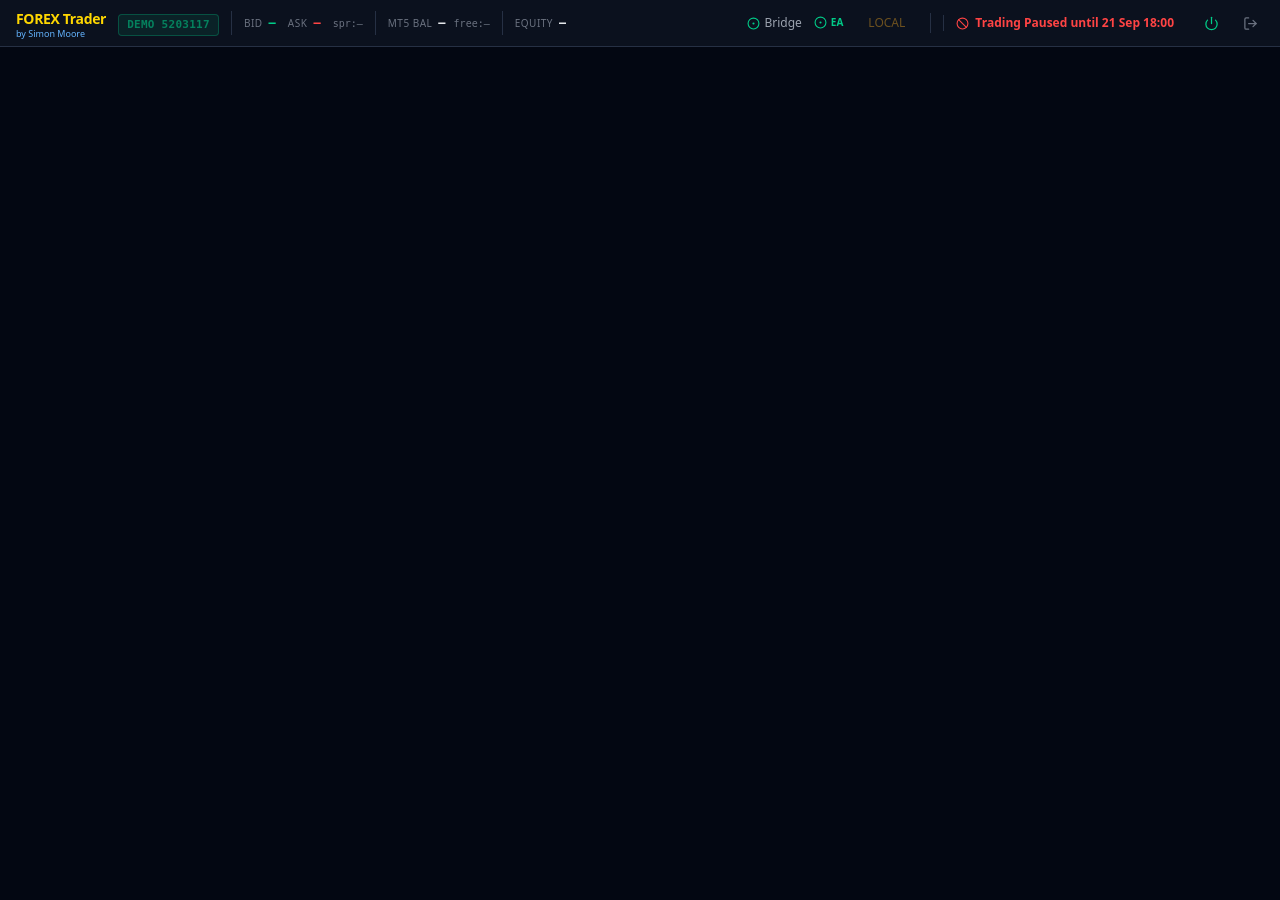
Test: the halt, stated once › is the control that lifts it, not just a label
Click the button with test id "trading-status-badge": [1065, 23] box x1=943 y1=15 x2=1186 y2=31
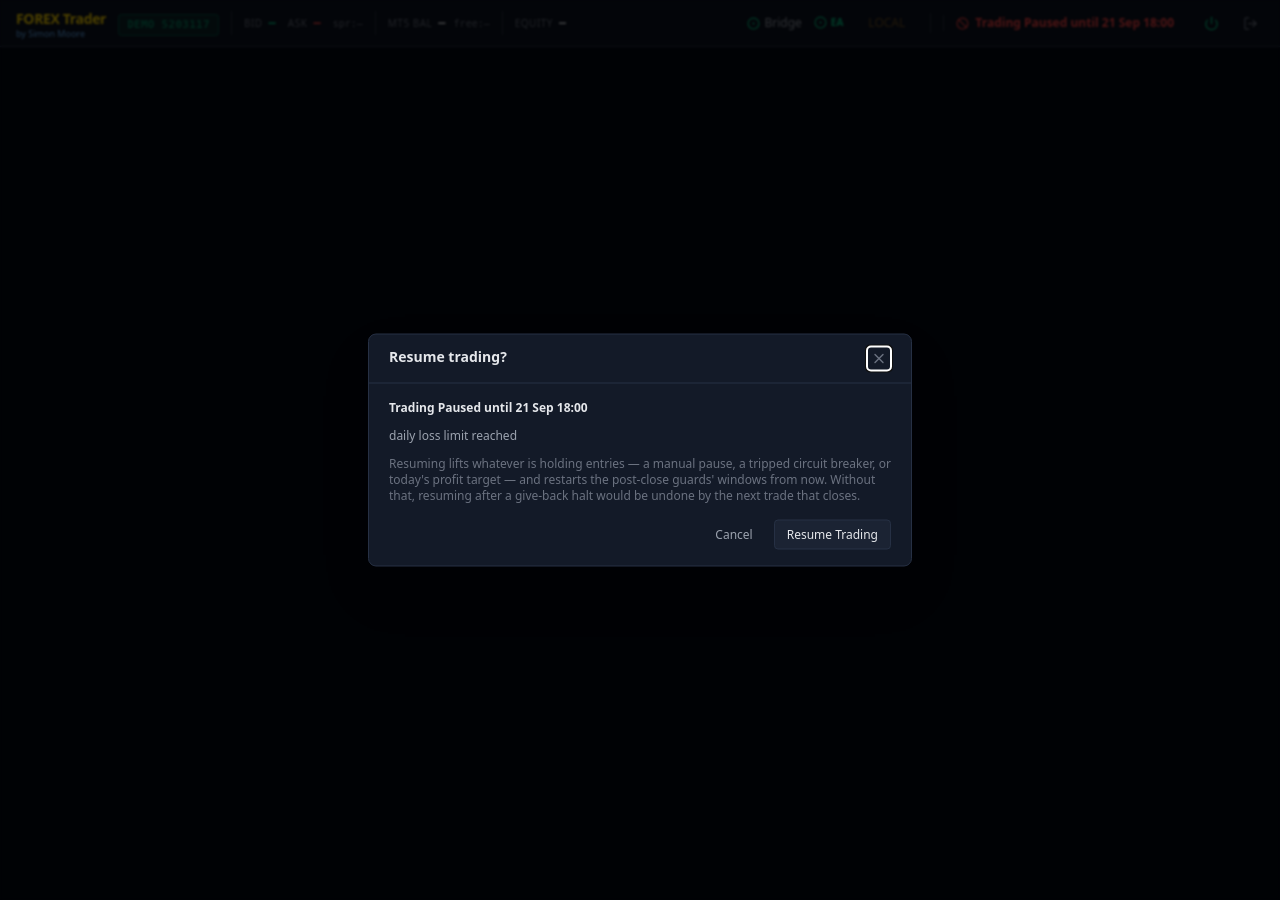
Now the element with test id "trading-status-dialog" is shown, box x1=389 y1=400 x2=891 y2=550
